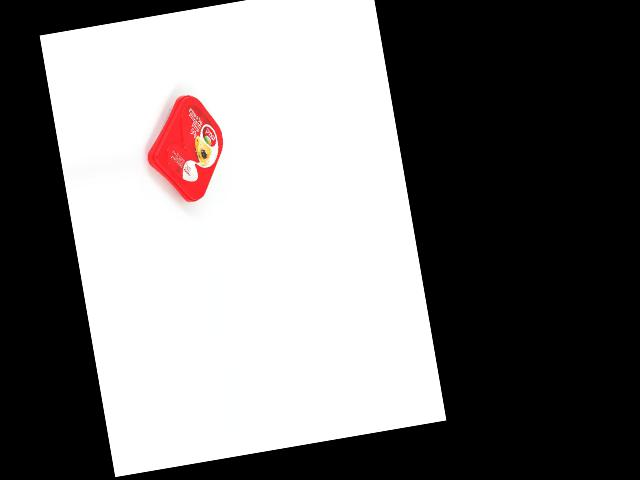cheese: (137, 90, 232, 208)
